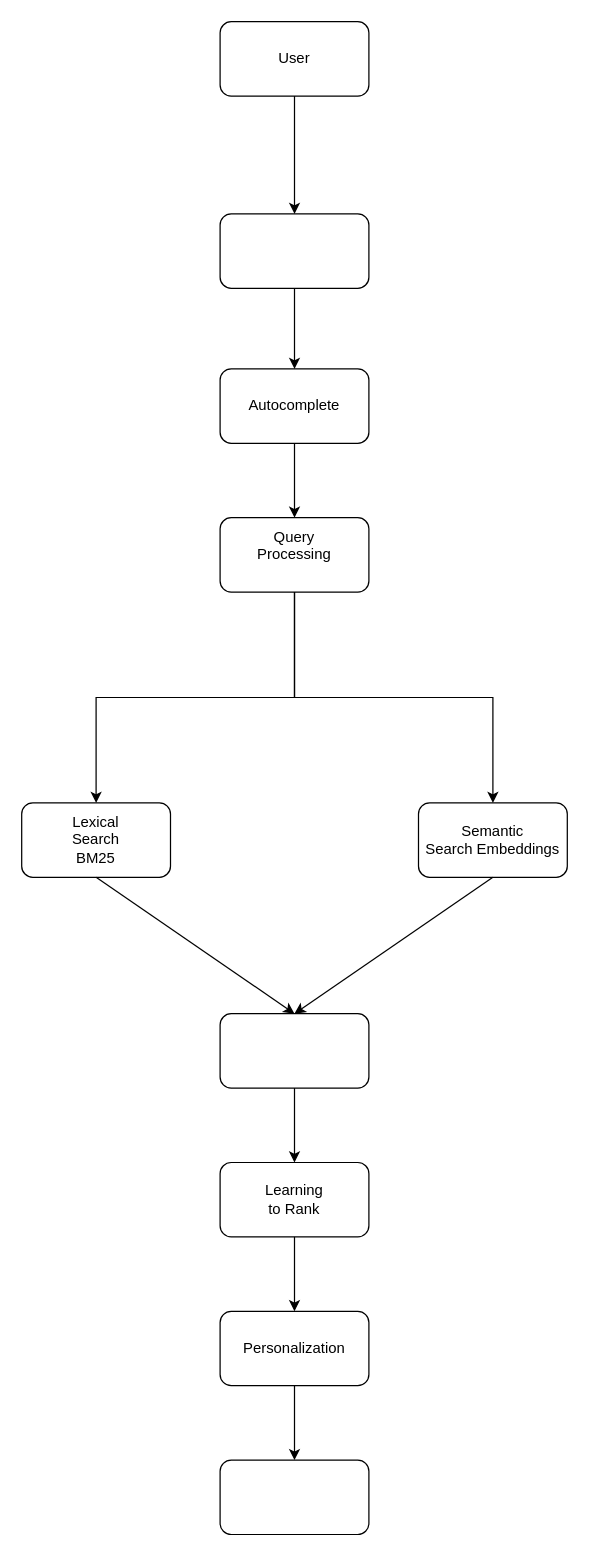
Image size: 589x1556. Some labels were removed from this diagram. Here are the shapes that lost their labels. From the top down, the centre of each, then its label:
At point 294,250: "Query Understanding".
At point 294,1050: "Reciprocal Rank Fusion".
At point 294,1496: "Final Results".
